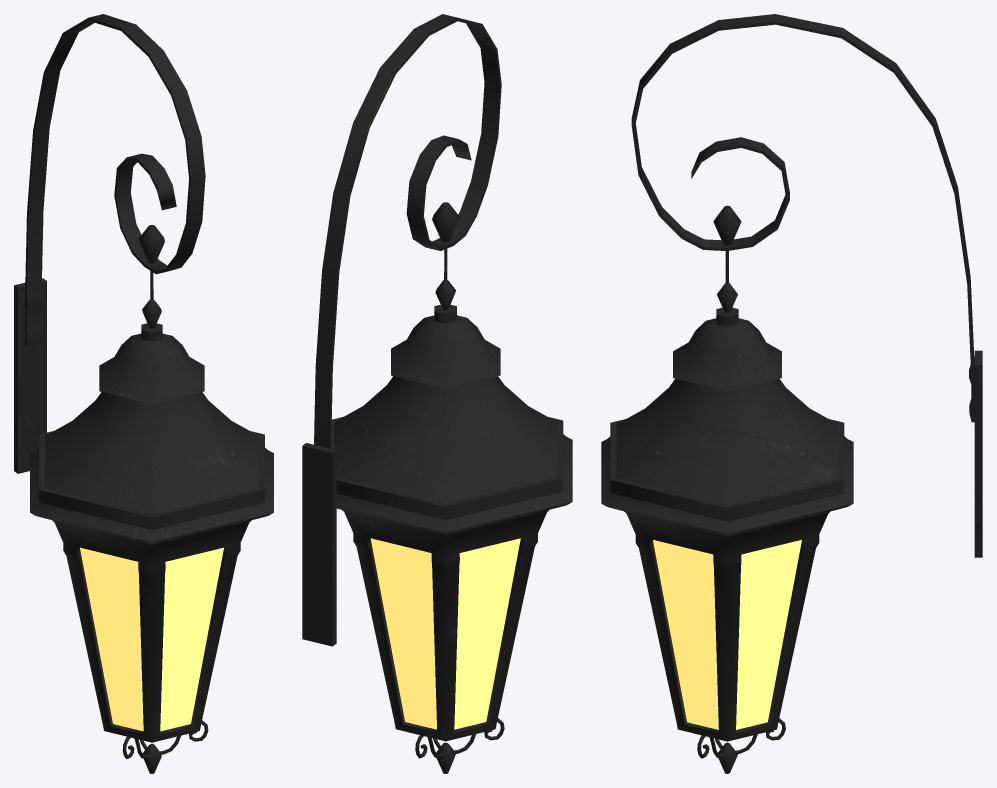
The model's file is Lanterna.FBX.
The picture shows the model from 3 angles, left to right: view 1: azimuth 30°, elevation 25°; view 2: azimuth 150°, elevation 25°; view 3: azimuth 270°, elevation 25°; orthographic projection. The views are drawn at different scales.
Parts seen in each view (by area): view 1: Lanterna_LP; view 2: Lanterna_LP; view 3: Lanterna_LP.
Part boxes in pixels (x1,y1,x2,y2): Lanterna_LP: (14, 14, 273, 773); Lanterna_LP: (302, 14, 572, 773); Lanterna_LP: (601, 14, 982, 773).
Size of the model in its own units: 6.69 by 19.11 by 8.75.
1 material, 1 textured.
